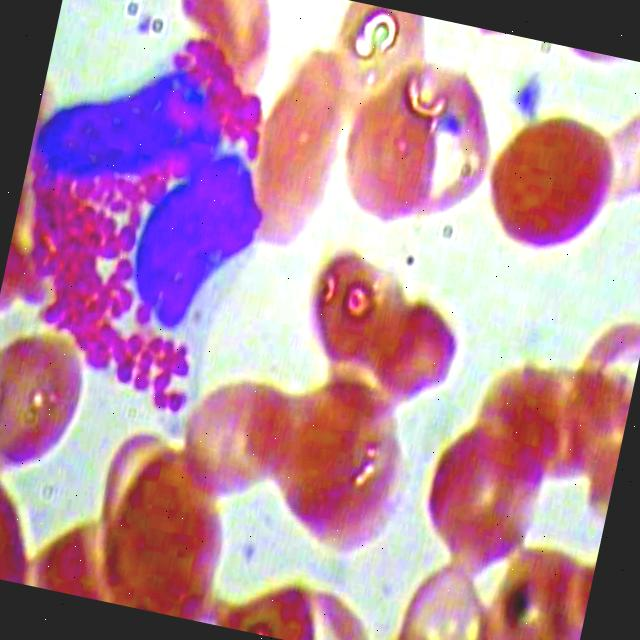Platelets: (500, 67, 553, 123)
RBC: (242, 364, 422, 569), (226, 31, 374, 262), (72, 448, 244, 624), (462, 100, 630, 268), (400, 404, 558, 582), (161, 363, 310, 516), (326, 85, 454, 239), (0, 323, 102, 515), (286, 242, 412, 384), (452, 361, 578, 503), (351, 286, 476, 428), (313, 0, 439, 140), (371, 555, 519, 640), (162, 0, 285, 96), (211, 564, 336, 640), (0, 467, 53, 586)
WBC: (0, 8, 296, 457)
